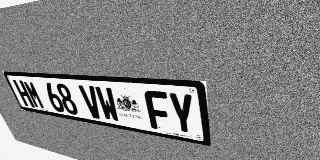6: (42, 82, 66, 113)
8: (54, 83, 80, 115)
F: (143, 90, 173, 132)
H: (12, 80, 35, 108)
M: (22, 80, 46, 110)
V: (78, 85, 104, 120)
W: (94, 86, 121, 123)
Y: (167, 92, 197, 136)
